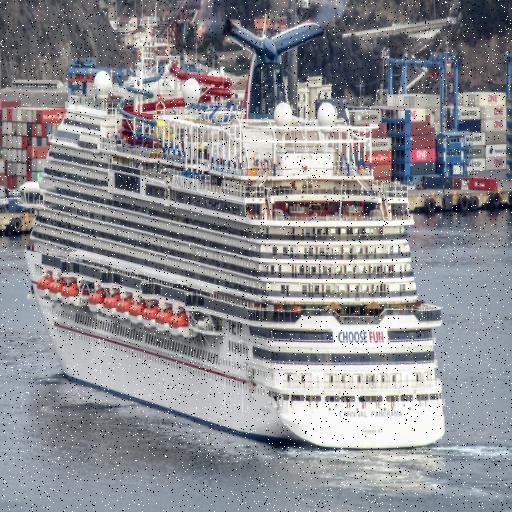cruises: (22, 18, 455, 455)
